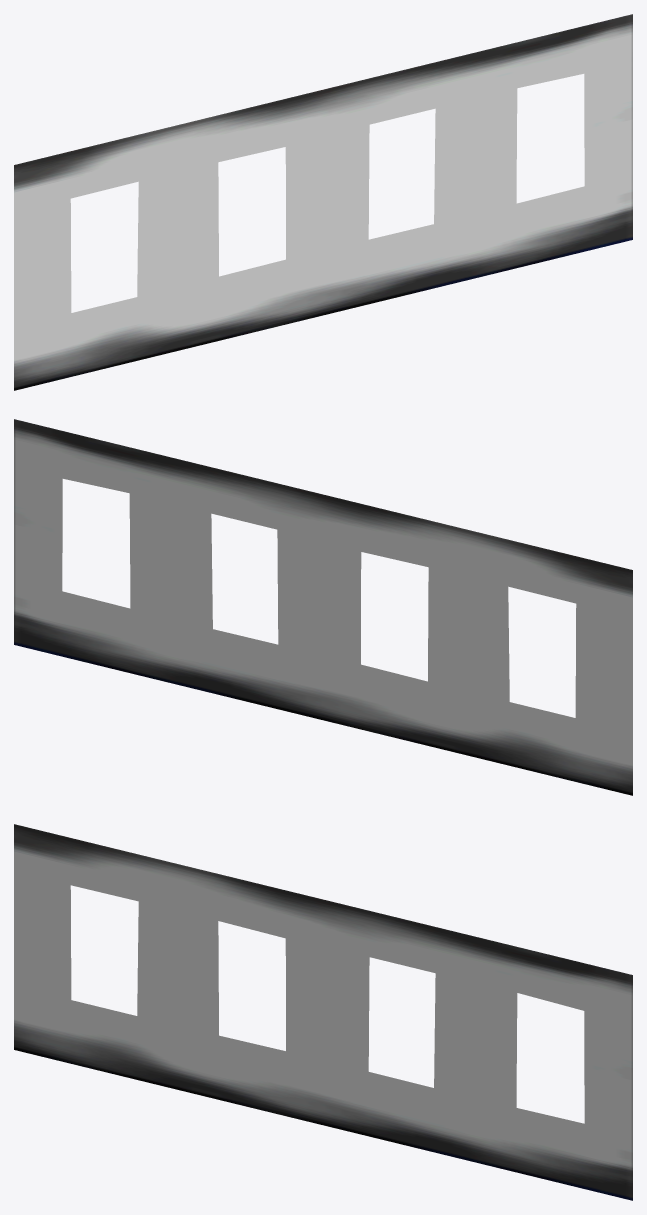
File: W_AI3_ffff [Grau2]_450.glb
3 renders of one model, top to bottom at view 1: azimuth 30°, elevation 25°; view 2: azimuth 150°, elevation 25°; view 3: azimuth 330°, elevation 25°, orthographic.
Visible parts, largest first — view 1: polySurfaceShape772; view 2: polySurfaceShape772; view 3: polySurfaceShape772.
Boxes of the visible parts, x1=… form: polySurfaceShape772: x1=14, y1=14, x2=632, y2=390; polySurfaceShape772: x1=14, y1=419, x2=632, y2=795; polySurfaceShape772: x1=14, y1=824, x2=632, y2=1200.
Bounding box in the file's own units: 1 × 0.3486 × 1.52e-08.
1 material, 1 textured.
